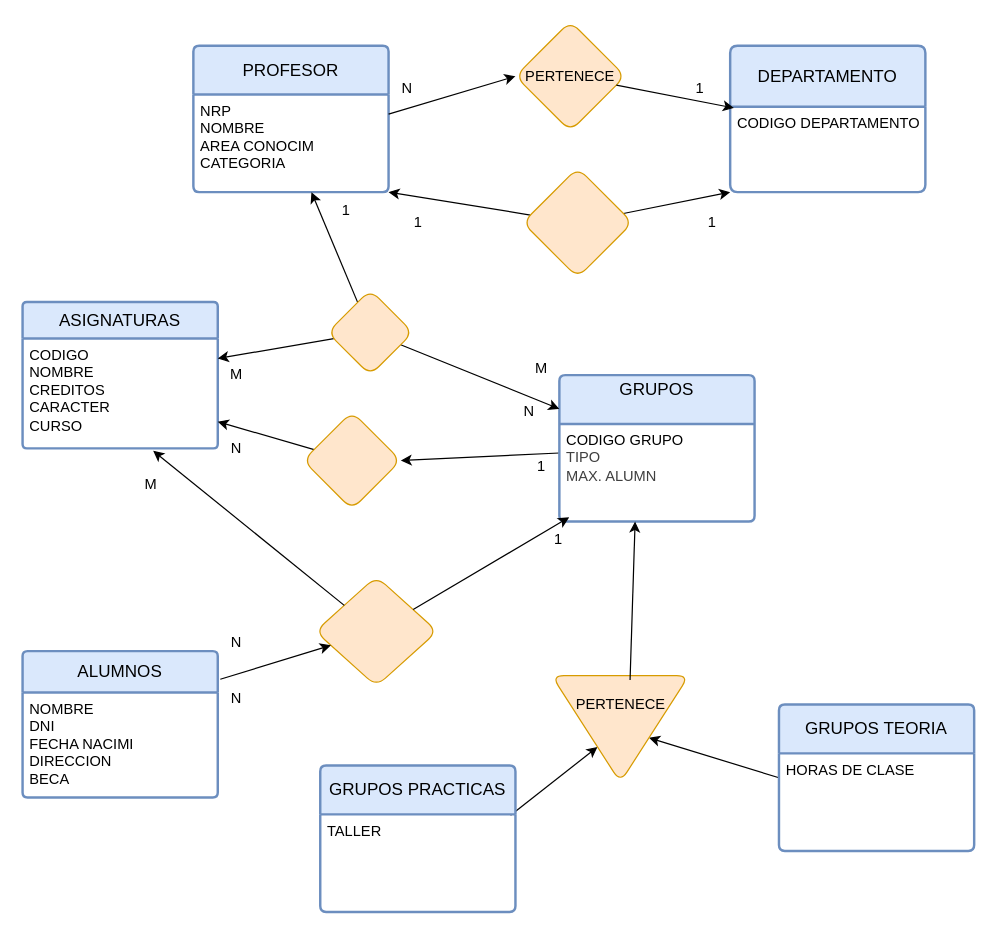
The diagram is 996 pixels wide and 935 high, and some of its shapes have lost their labels. The centre of each missing label's shape, as x and y in pixels:
CONTIENE: (x=351, y=460)
DIRECTOR: (x=577, y=222)
IMPARTE: (x=369, y=332)
MATRICULAN: (x=375, y=630)
